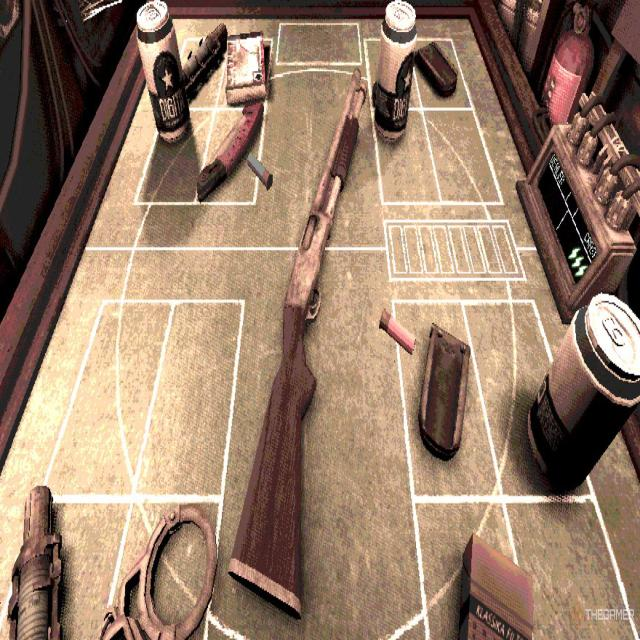can: (531, 299, 640, 490), (137, 1, 190, 147), (374, 15, 416, 141)
cigar: (459, 535, 533, 639)
doubledamage: (197, 102, 264, 197)
expired-medicine: (225, 32, 268, 105)
handcuff: (98, 508, 216, 639)
phone: (419, 319, 472, 455), (417, 40, 458, 91)
